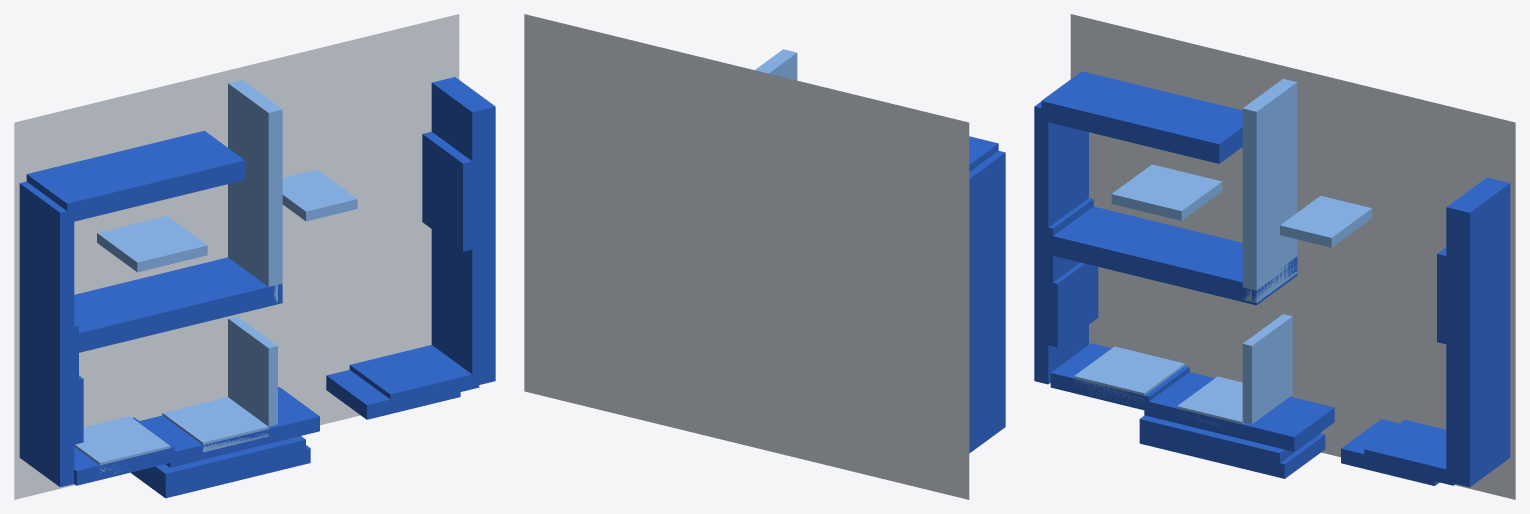
The model's file is 5861dafd-50e8-402f-a3c4-12401678f9a2.obj.
The picture shows the model from 3 angles, left to right: view 1: azimuth 30°, elevation 25°; view 2: azimuth 150°, elevation 25°; view 3: azimuth 330°, elevation 25°; orthographic projection.
Size of the model in its own units: 19 by 15.4 by 3.05.
